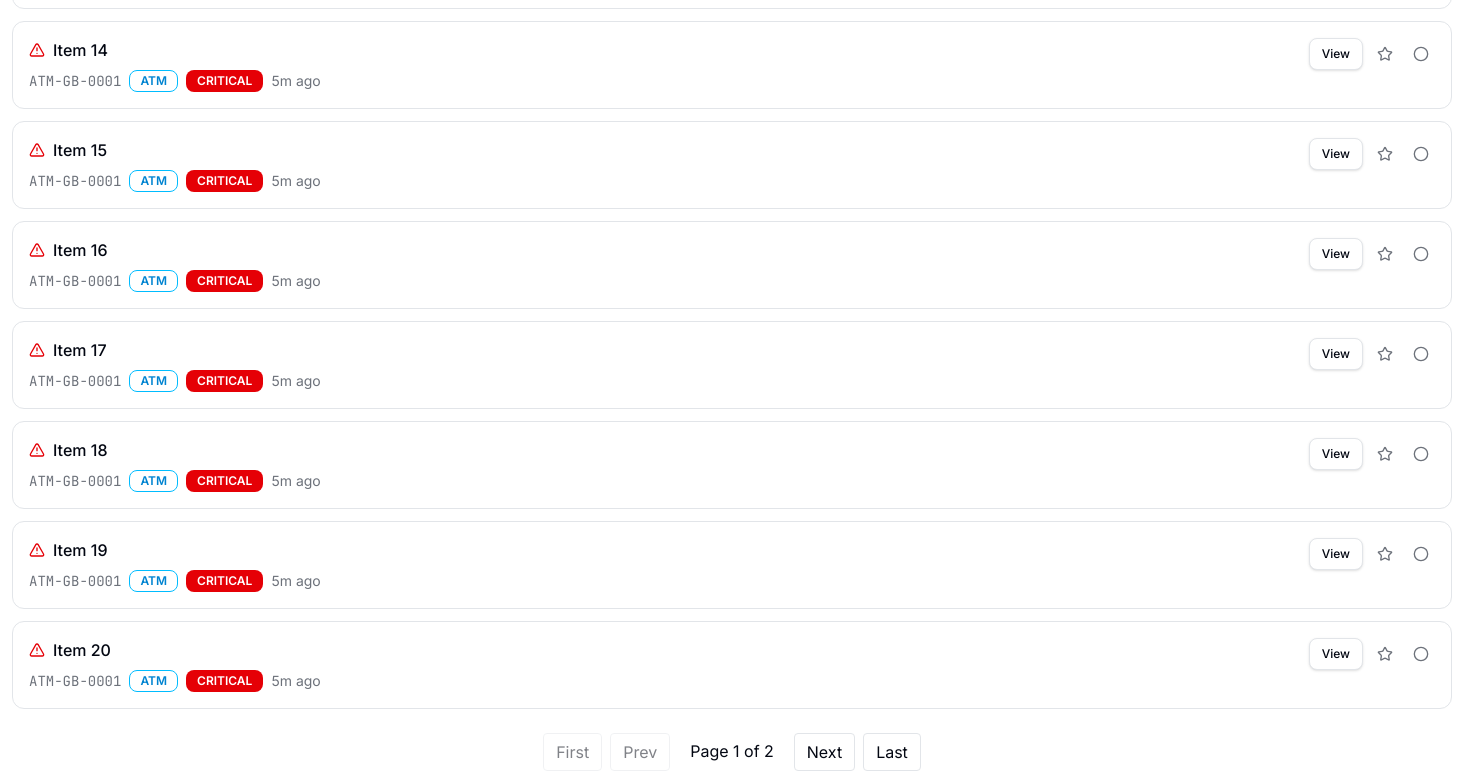
Test: AnomalyListPage filters › First/Last pagination buttons work
(page scrolled)
Click the button "Last" at (892, 752), box [863,733,921,770]
(page scrolled)
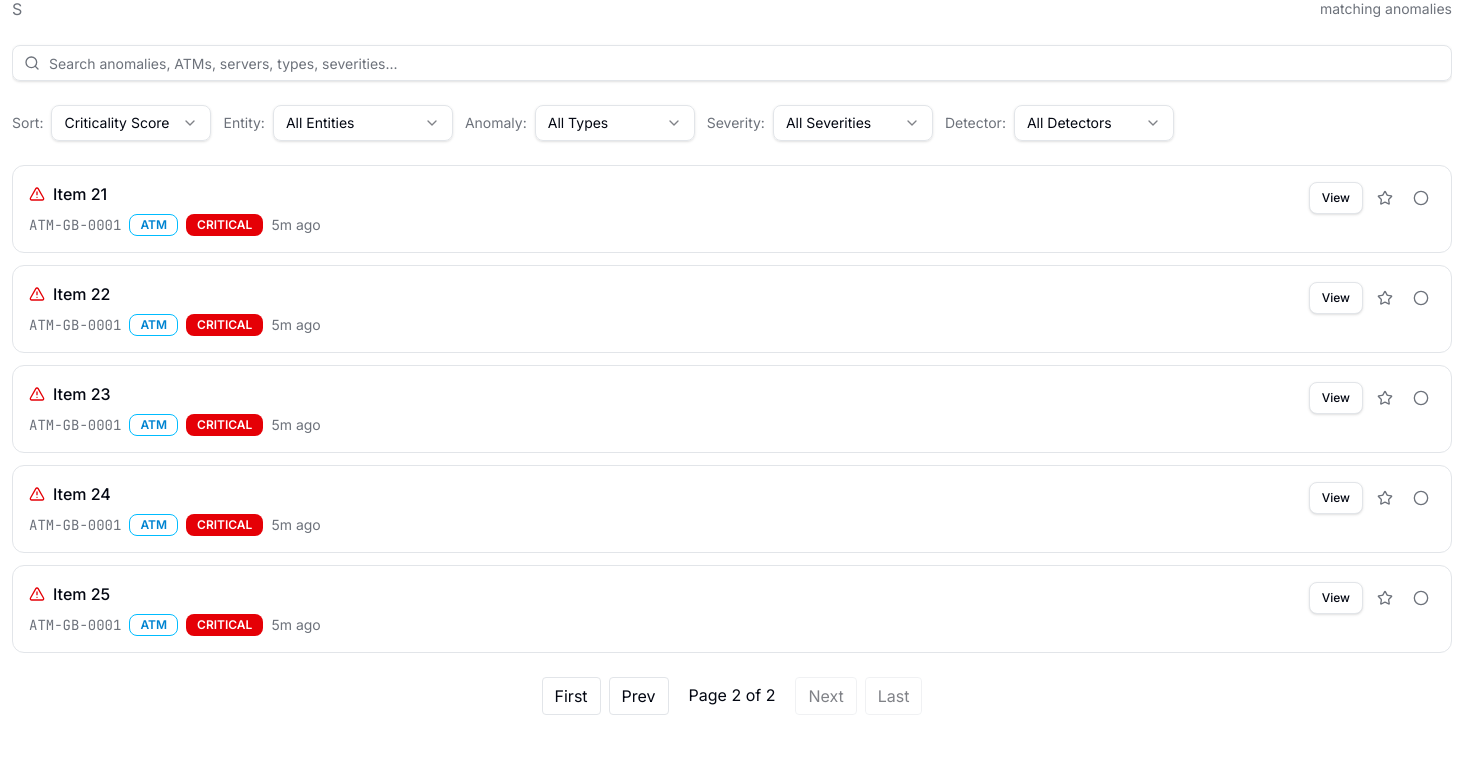
Expected: the text "Page 2 of 2" is shown, [688,685,775,705]
Expected: the heading "Item 25" is shown, [53,582,110,606]
Click the button "First" at (571, 696), box [542,677,600,715]
(page scrolled)
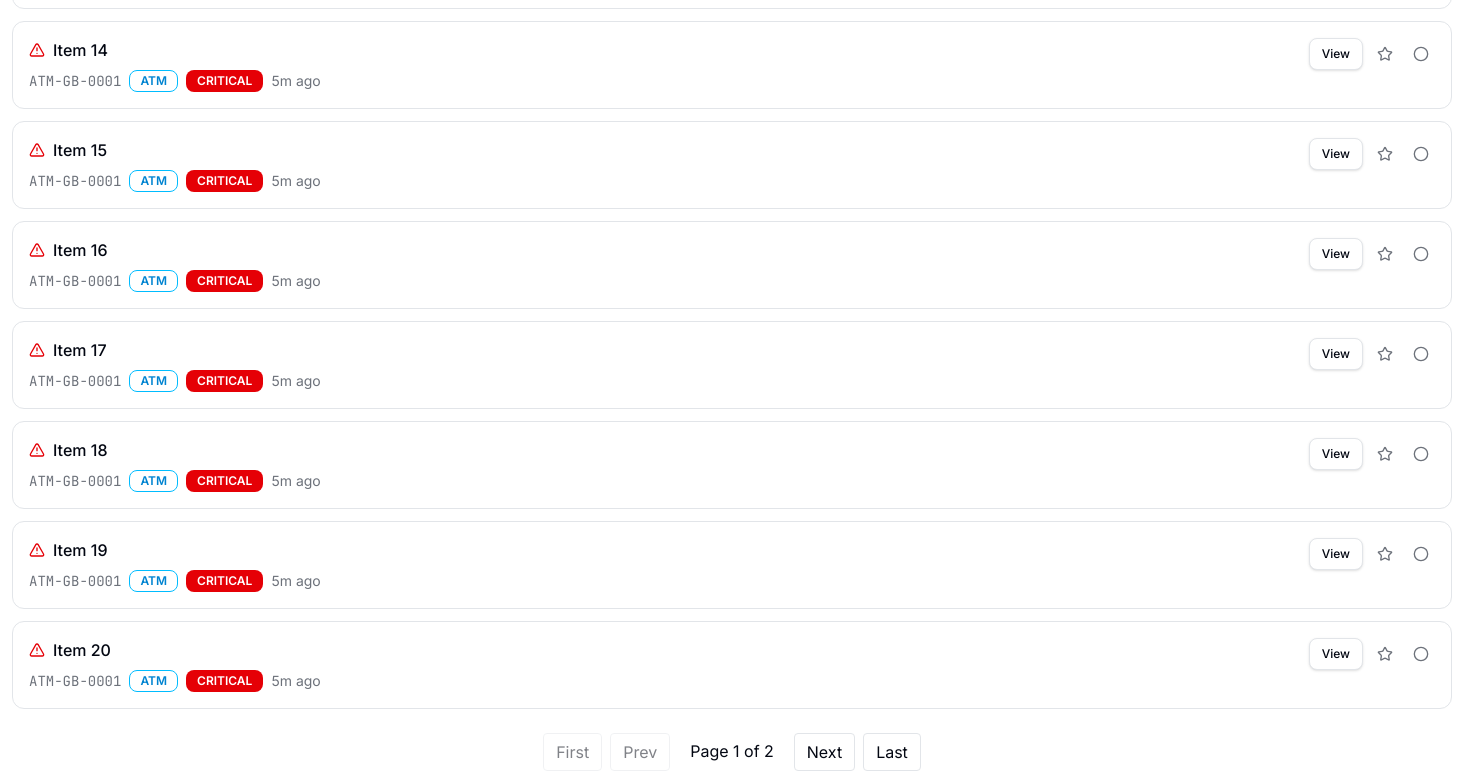
Expected: the text "Page 1 of 2" is shown, [690,741,774,761]
